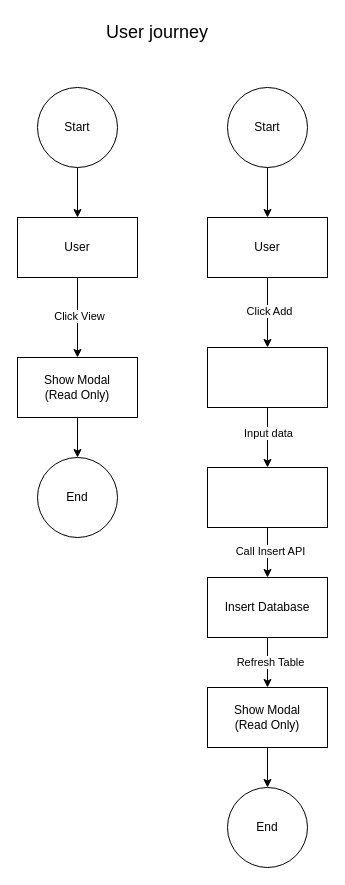
This 345x885 diagram has some shape labels left out. Here are the shapes that lost their labels. From the top down, the centre of each, then its label:
pixel 267 377: Show Add Modal
pixel 267 497: Save Information
